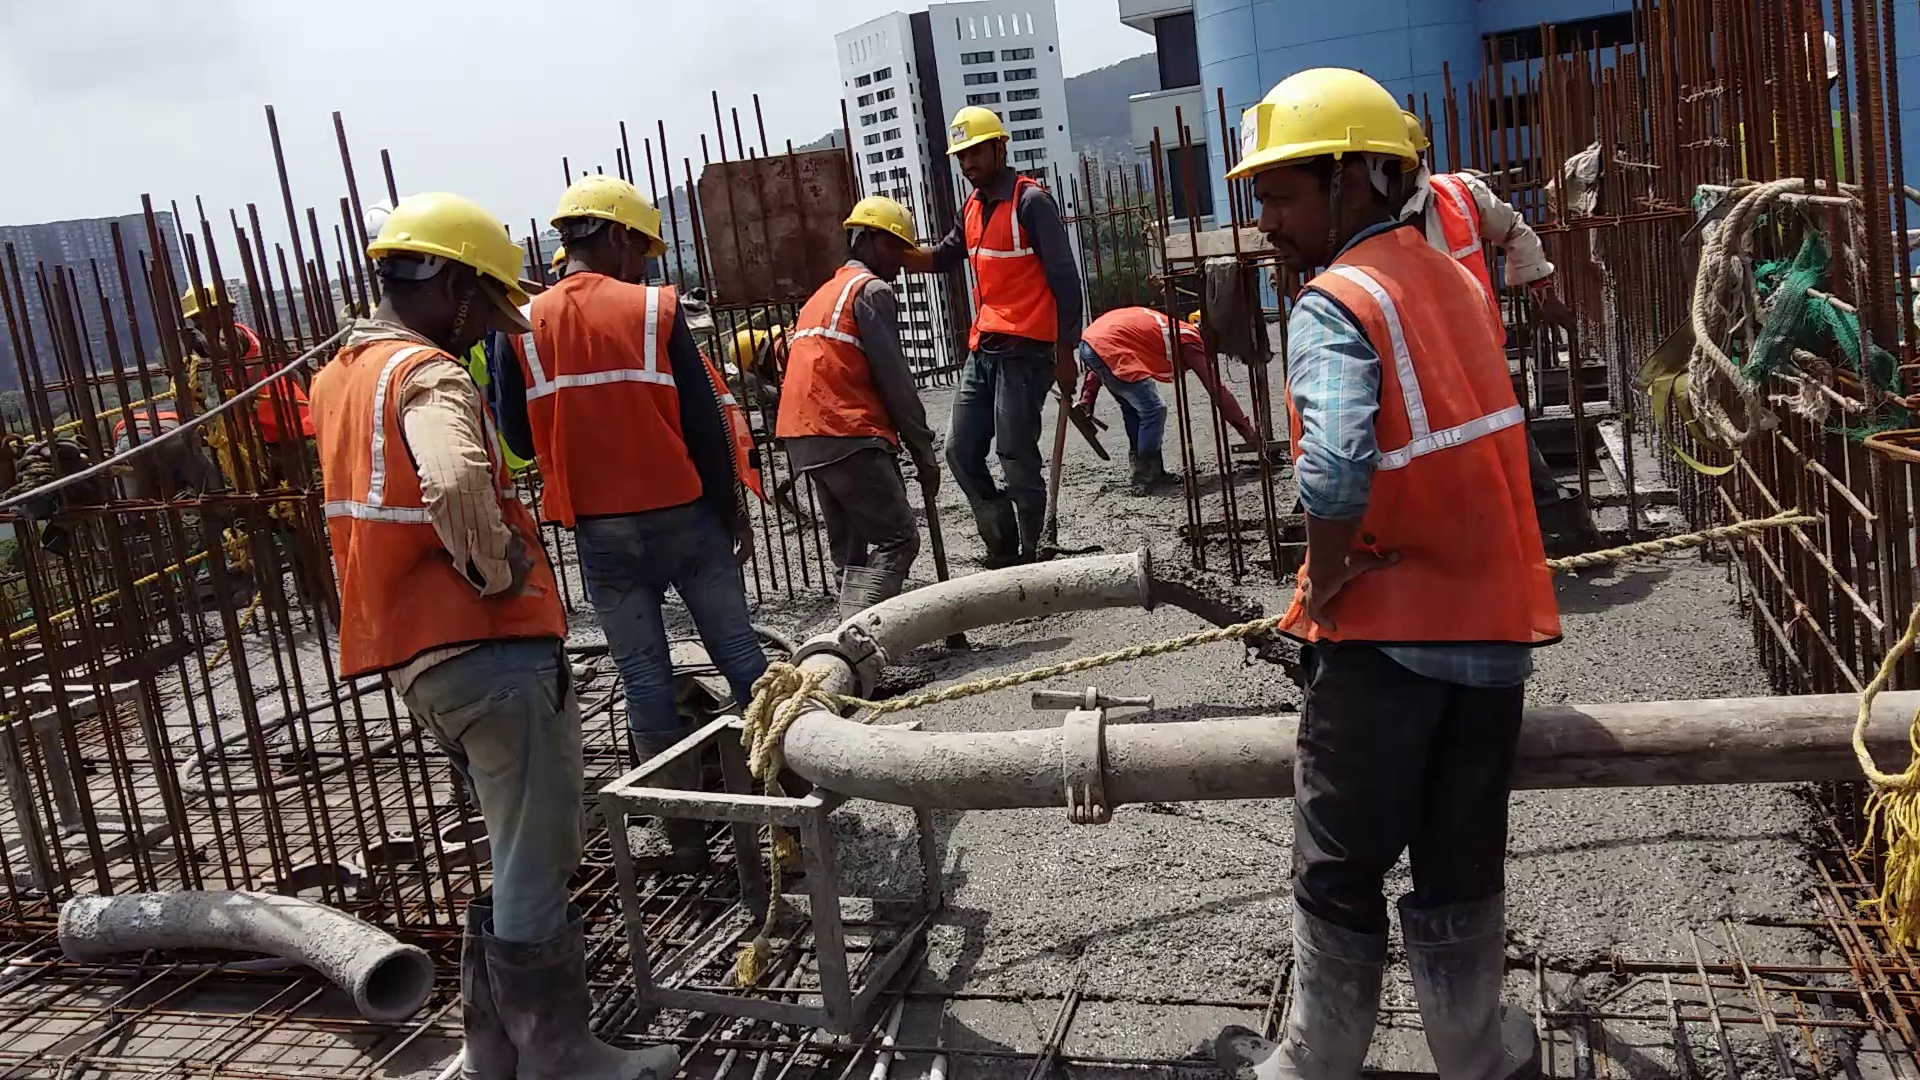SAFE: (1274, 58, 1528, 654), (328, 207, 526, 688), (539, 185, 676, 521), (779, 191, 920, 444), (944, 98, 1056, 344)
